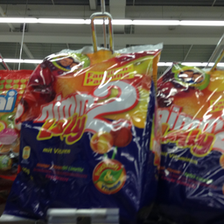candy: (32, 50, 157, 198), (147, 54, 224, 202)
